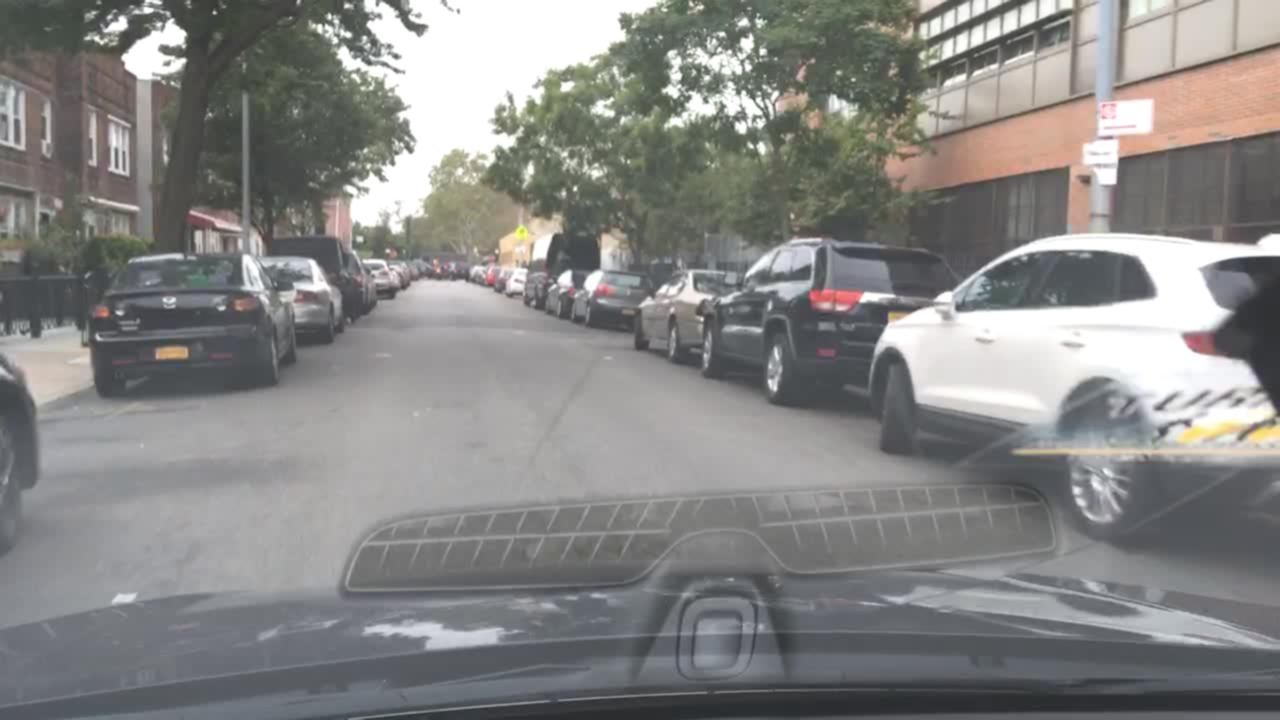Mazda: (161, 293, 177, 311)
